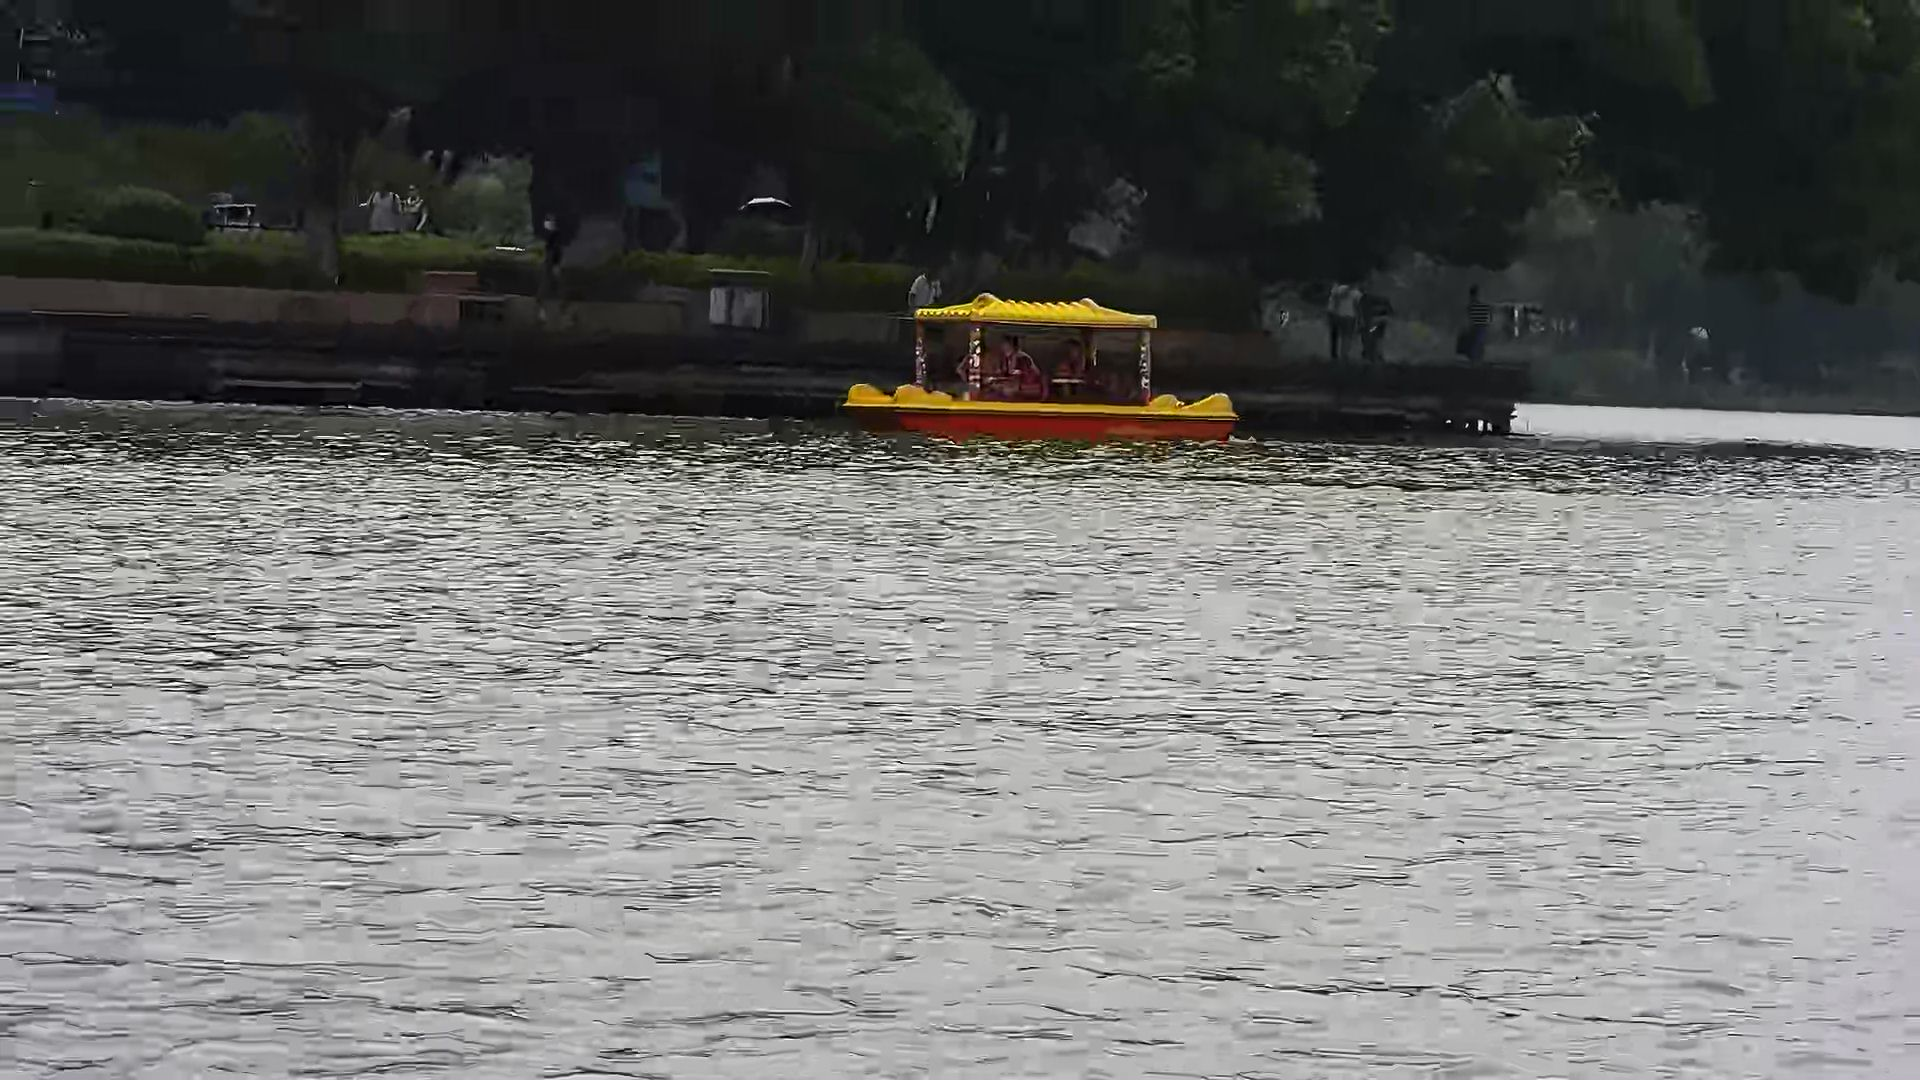boat: (820, 287, 1238, 440)
